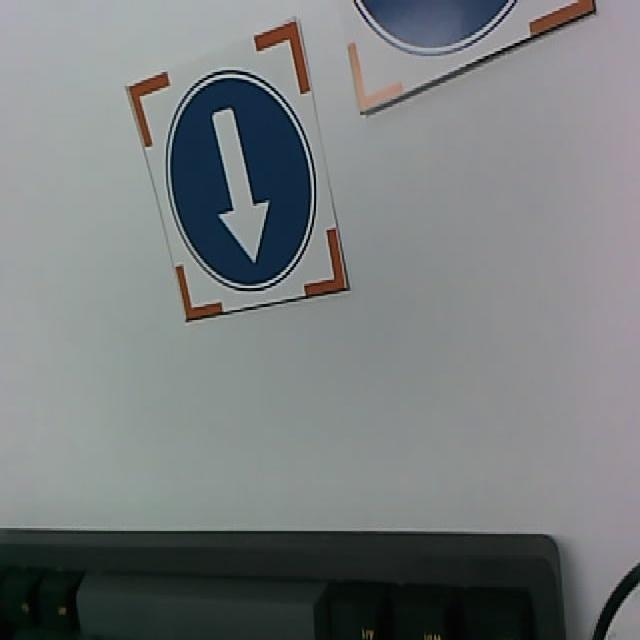straight: (168, 71, 318, 293)
